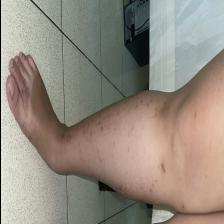DA: (80, 118, 124, 176), (125, 93, 156, 158)
